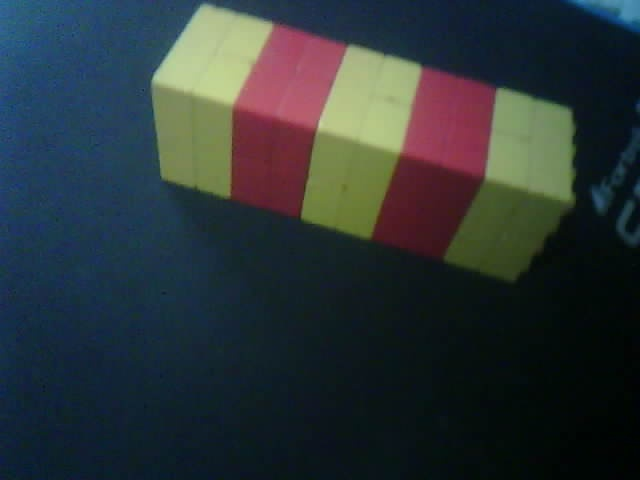lego: (149, 1, 576, 285)
